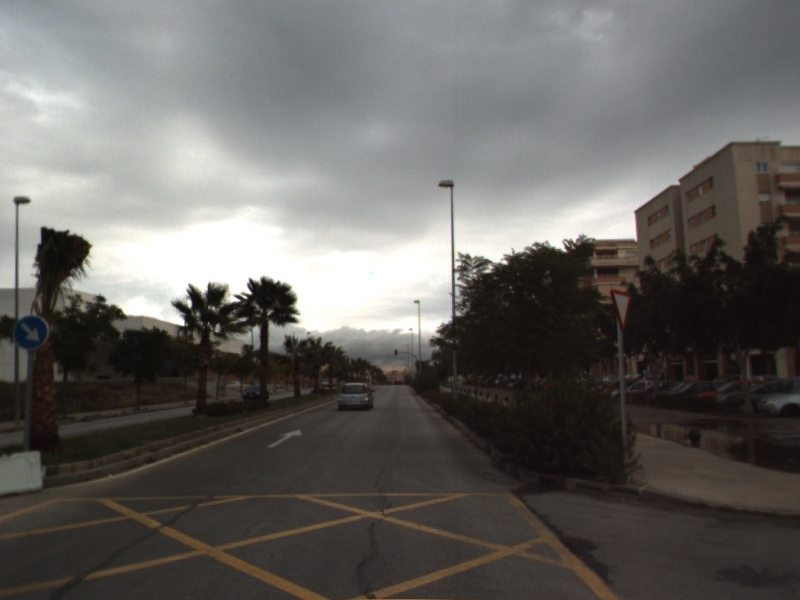STRAIGHT: (265, 427, 303, 450)
